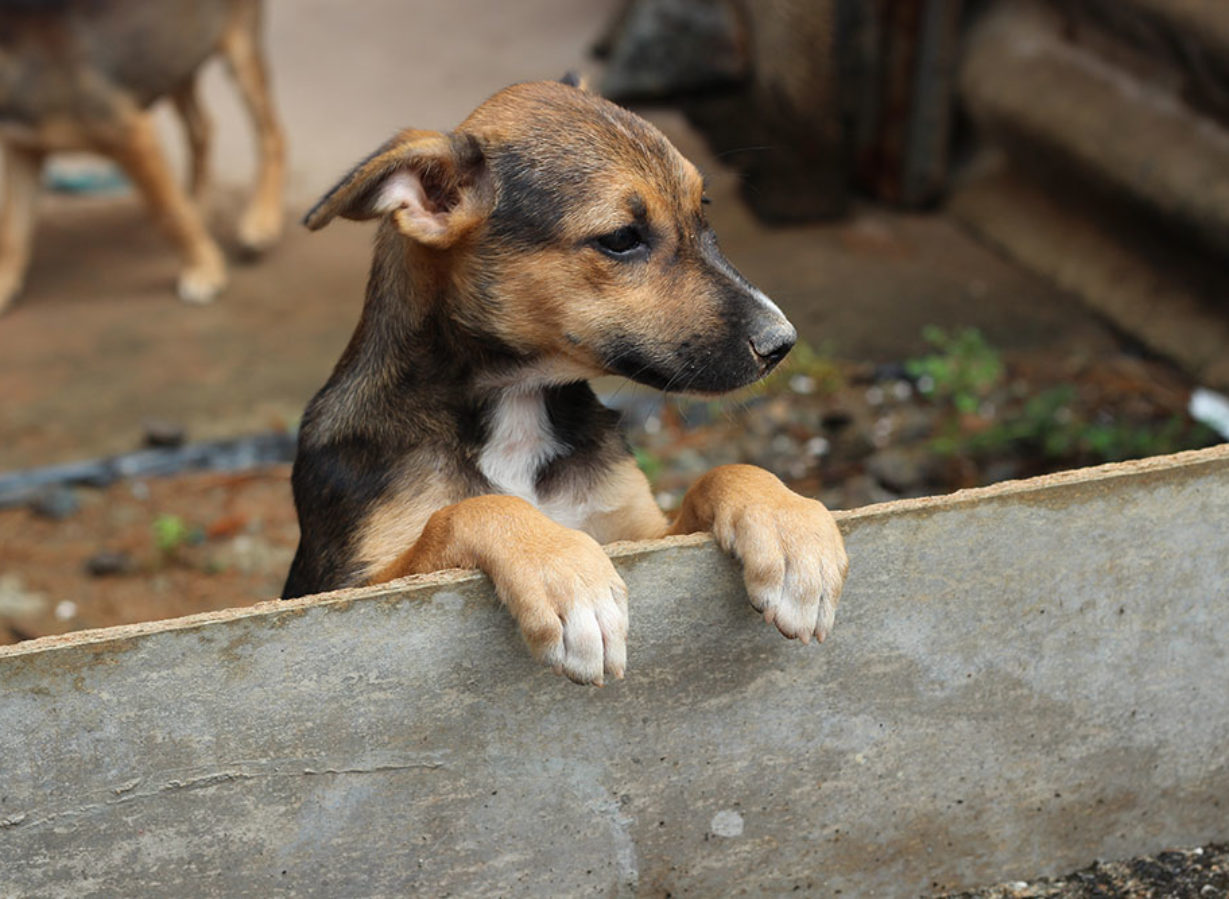Dog: (274, 55, 878, 703)
